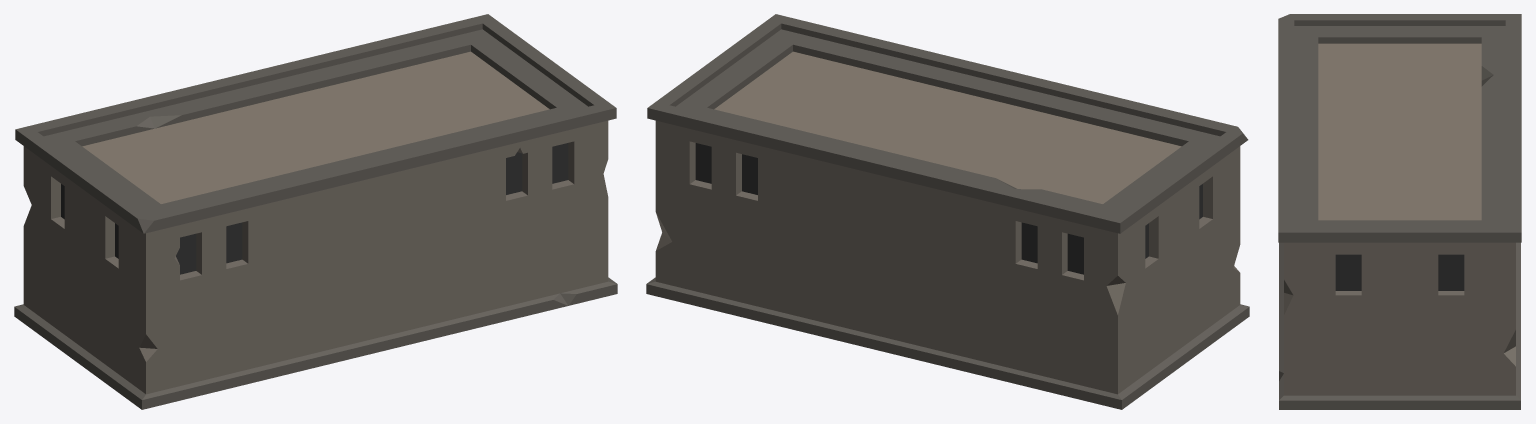
Rendered from SM_Bld_Fort_Room_03.glb.
The picture shows the model from 3 angles, left to right: view 1: azimuth 30°, elevation 25°; view 2: azimuth 150°, elevation 25°; view 3: azimuth 270°, elevation 25°; orthographic projection. The views are drawn at different scales.
Parts seen in each view (by area): view 1: SM_Bld_Fort_Room_03_part00; view 2: SM_Bld_Fort_Room_03_part00; view 3: SM_Bld_Fort_Room_03_part00.
Boxes of the visible parts, box(x1,y1,x2,y2) form: SM_Bld_Fort_Room_03_part00: box(14, 14, 617, 409); SM_Bld_Fort_Room_03_part00: box(646, 14, 1249, 409); SM_Bld_Fort_Room_03_part00: box(1278, 14, 1521, 409).
Bounding box in the file's own units: 17.64 × 6.61 × 8.25.
1 material, 1 textured.
